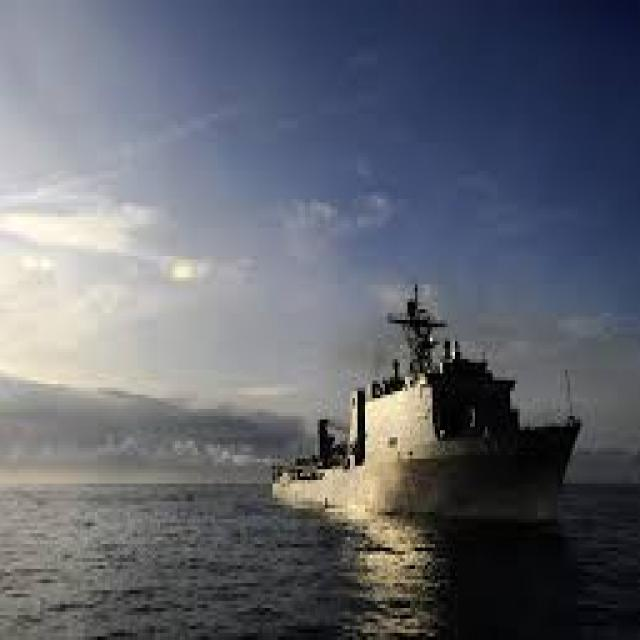navalvessels: (265, 285, 584, 541)
